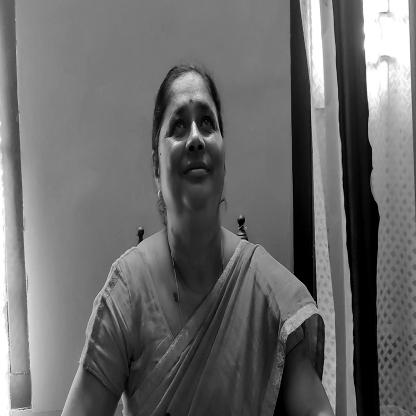Distracted: (154, 66, 232, 230)
